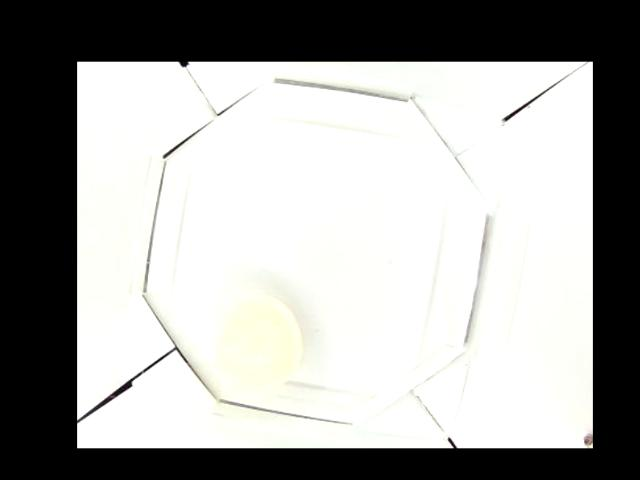Mooli: (210, 296, 304, 388)
